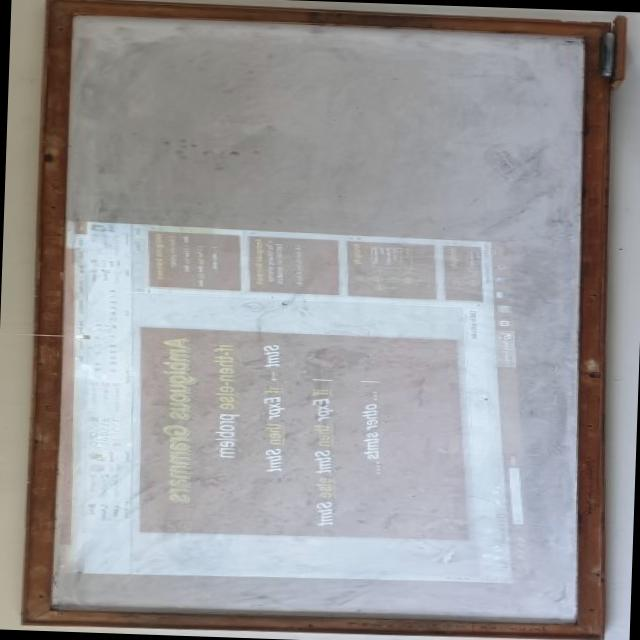Slide: (53, 216, 539, 585)
White-board: (40, 4, 593, 632)
